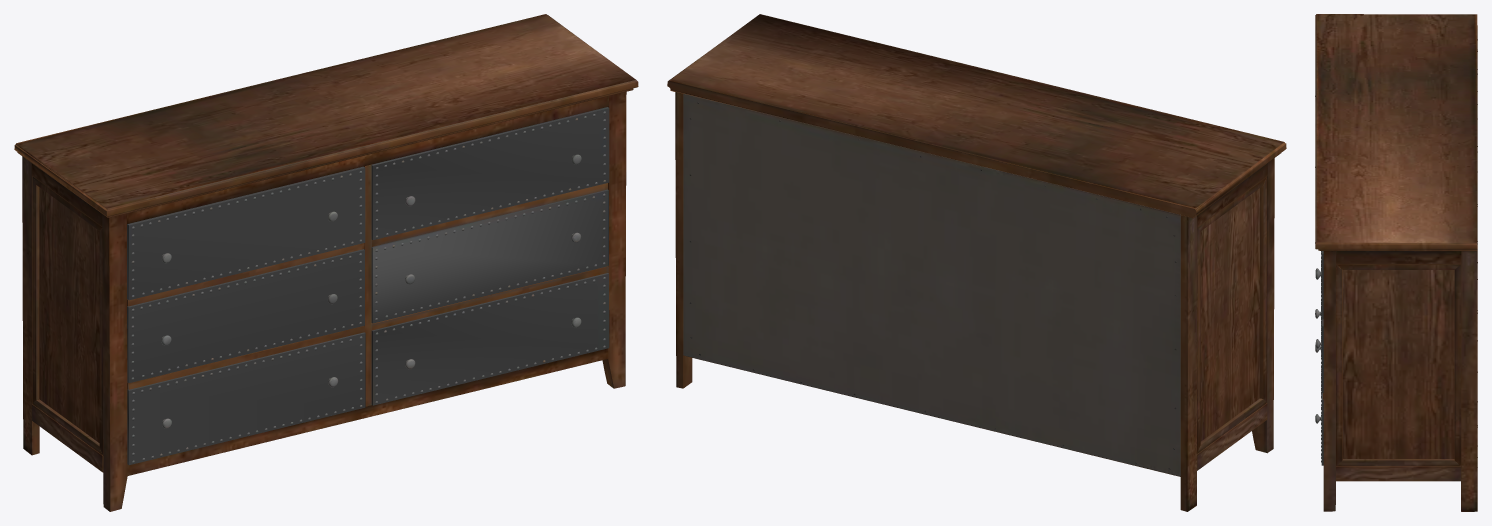
The picture shows the model from 3 angles, left to right: view 1: azimuth 30°, elevation 25°; view 2: azimuth 150°, elevation 25°; view 3: azimuth 270°, elevation 25°; orthographic projection. The views are drawn at different scales.
Parts seen in each view (by area): view 1: RootNode; view 2: RootNode; view 3: RootNode.
Boxes of the visible parts, x1,y1,x2,y2 form: RootNode: [14, 14, 638, 511]; RootNode: [667, 14, 1286, 511]; RootNode: [1315, 14, 1477, 511].
Size of the model in its own units: 1.55 by 0.8556 by 0.4633.
1 material, 1 textured.
